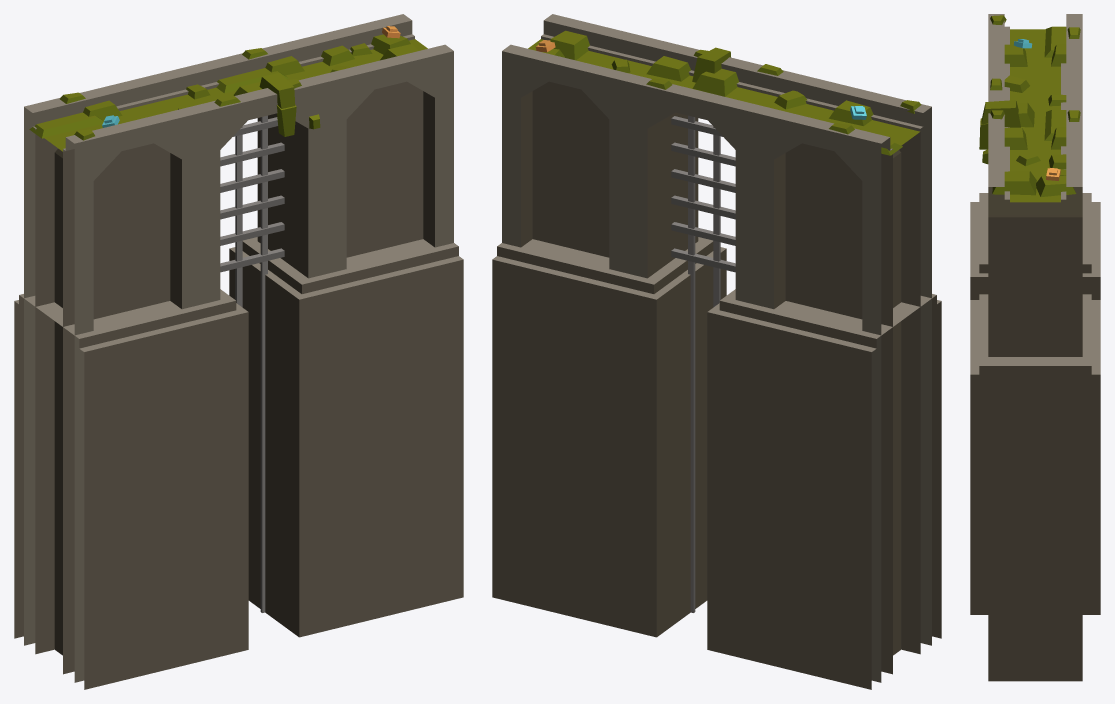
The model's file is SF_Bld_Elven_Castle_Wall_04.fbx.
3 views of the same model, side by side, from view 1: azimuth 30°, elevation 25°; view 2: azimuth 150°, elevation 25°; view 3: azimuth 270°, elevation 25° (orthographic). The views are drawn at different scales.
Parts seen in each view (by area): view 1: SF_Bld_Elven_Castle_Wall_04; view 2: SF_Bld_Elven_Castle_Wall_04; view 3: SF_Bld_Elven_Castle_Wall_04.
Part boxes in pixels (bbox=[...]): SF_Bld_Elven_Castle_Wall_04: bbox=[14, 14, 463, 689]; SF_Bld_Elven_Castle_Wall_04: bbox=[492, 14, 941, 689]; SF_Bld_Elven_Castle_Wall_04: bbox=[970, 14, 1100, 681].
Size of the model in its own units: 15.08 by 20.61 by 4.79.
